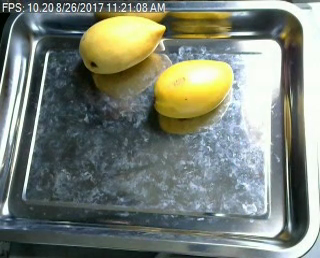Mango: (78, 15, 166, 75), (154, 59, 235, 116)
